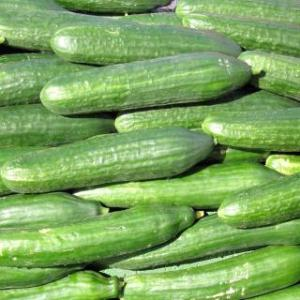cucumber: (3, 126, 215, 192), (40, 50, 256, 113), (0, 202, 200, 264), (118, 244, 300, 300), (49, 23, 244, 63), (218, 172, 300, 226), (200, 108, 300, 152)
